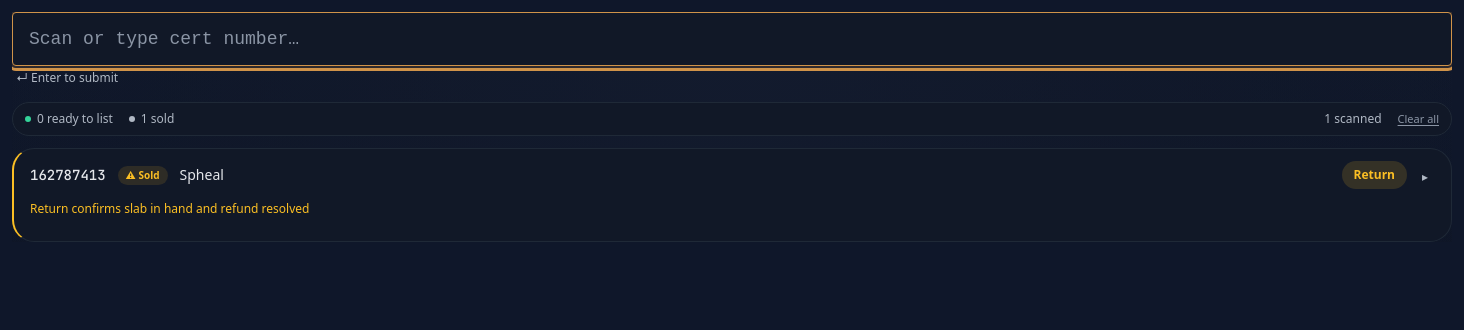
Test: confirmed Cert Intake returns › does not request another List when a successful listing follow-up read fails
Click the button "Return": point(1374, 175) [1342,161,1407,189]
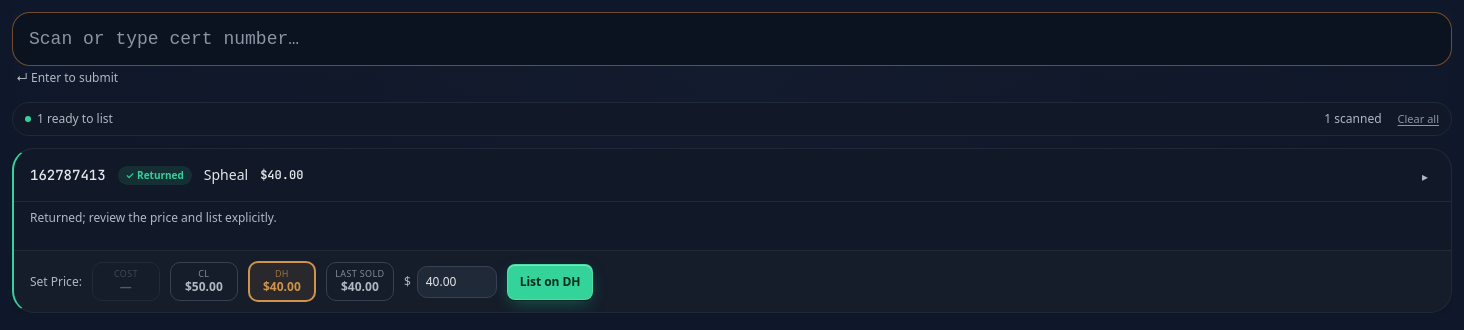
Expected: the text "Returned; review the price and list explicitly." is shown, [30,209,277,226]
Click the button "List on DH": point(550, 282) [507,264,593,300]
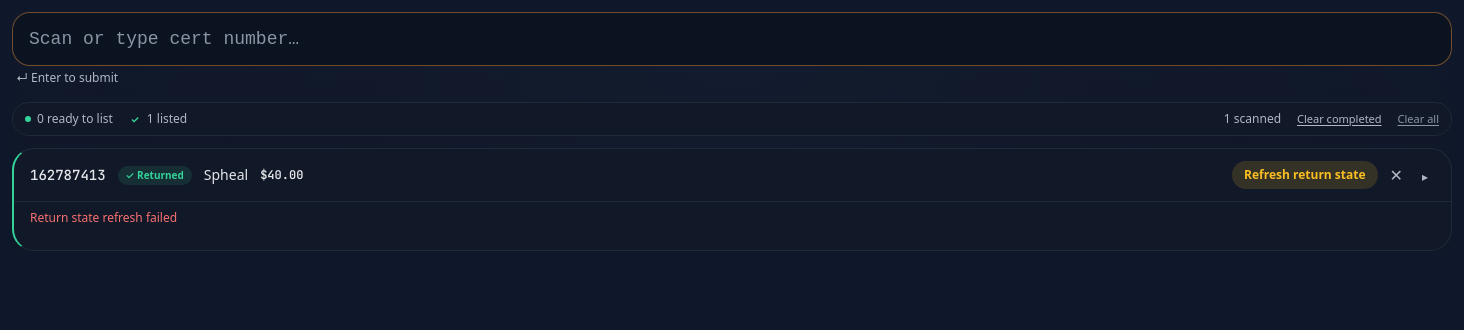
Expected: the text "Return state refresh failed" is shown, [30,209,177,226]
Expected: the text "Returned; review the price and list explicitly" is gone
